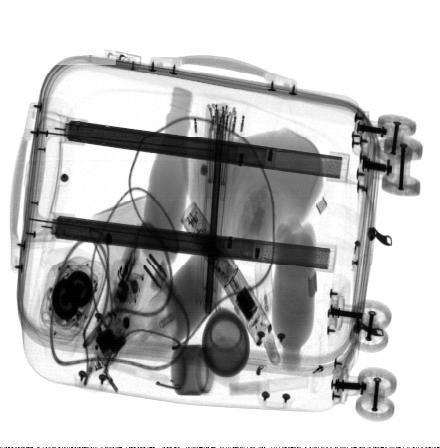Baton: (182, 201, 270, 346)
